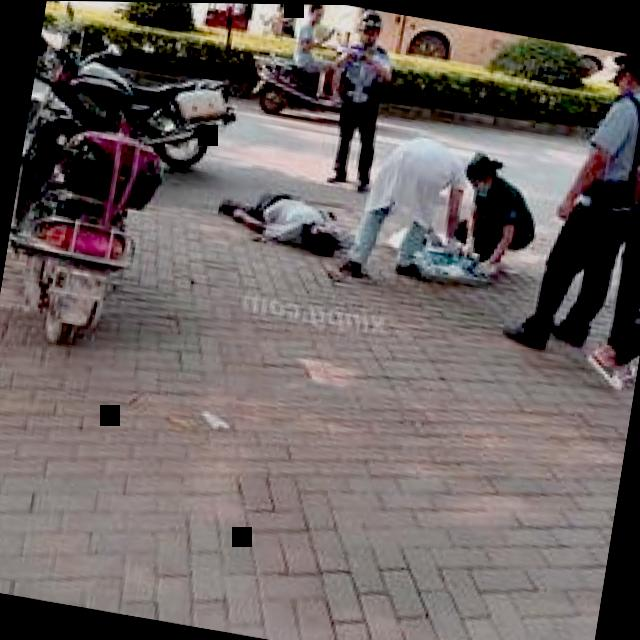Fall-Detected: (210, 156, 372, 267)
